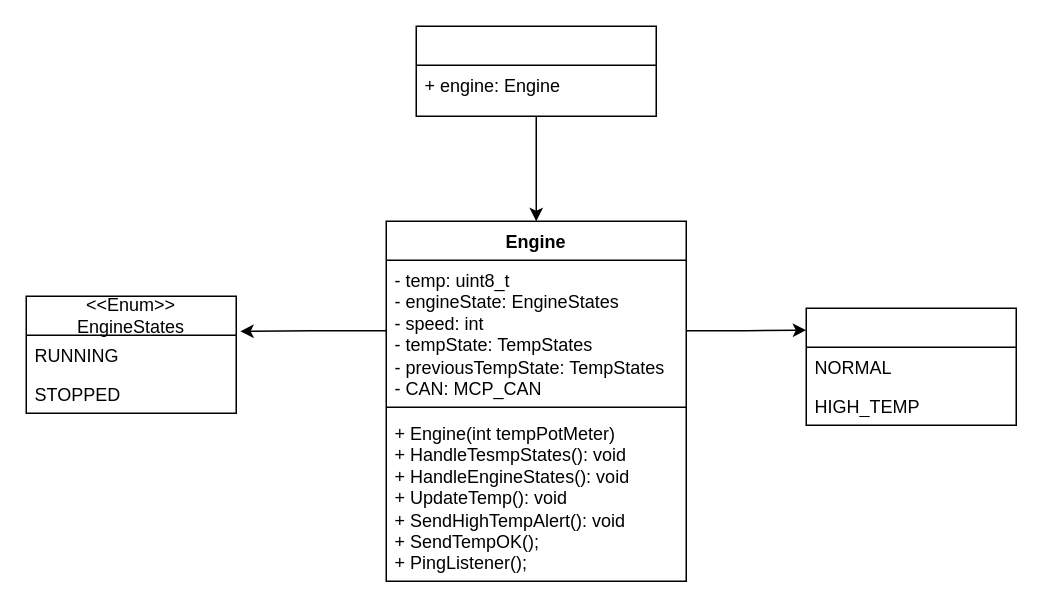
Some shapes in this 1043 by 612 pixel diagram are drawn without their labels. The shapes that lost their labels are listed below. From the top down, each one's box as (x1, y1, x2, y2) in pixels, then its label:
(415, 25, 656, 116): main.cpp
(805, 307, 1016, 425): <<Enum>> TempStates
